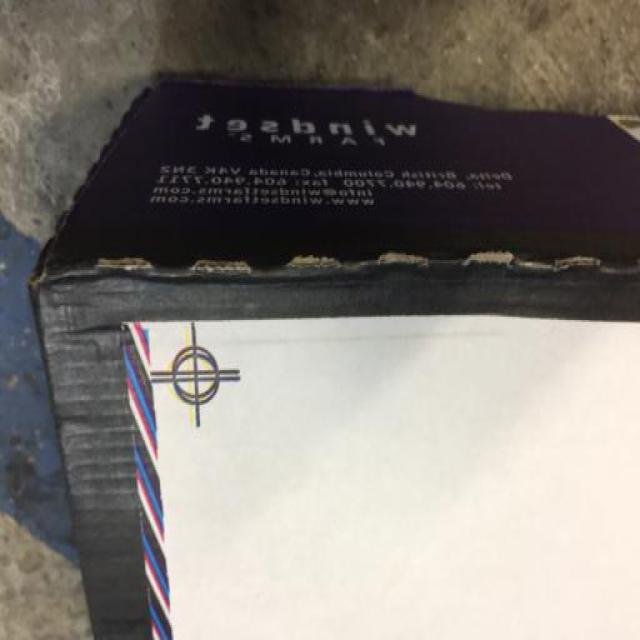cardboard: (32, 77, 640, 640)
